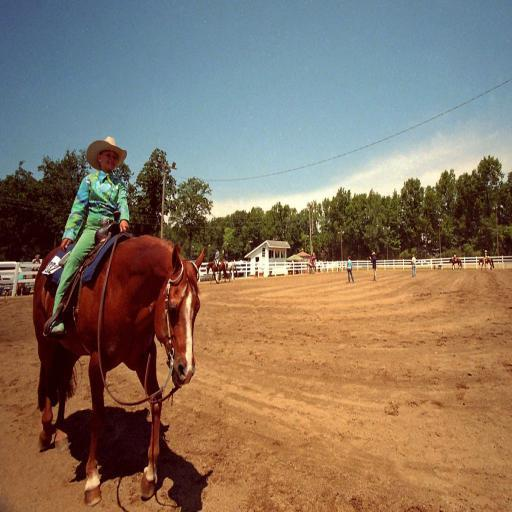horse: (34, 235, 208, 506), (206, 260, 230, 285), (224, 261, 239, 280), (478, 256, 494, 272), (449, 259, 463, 271), (306, 262, 318, 275)
